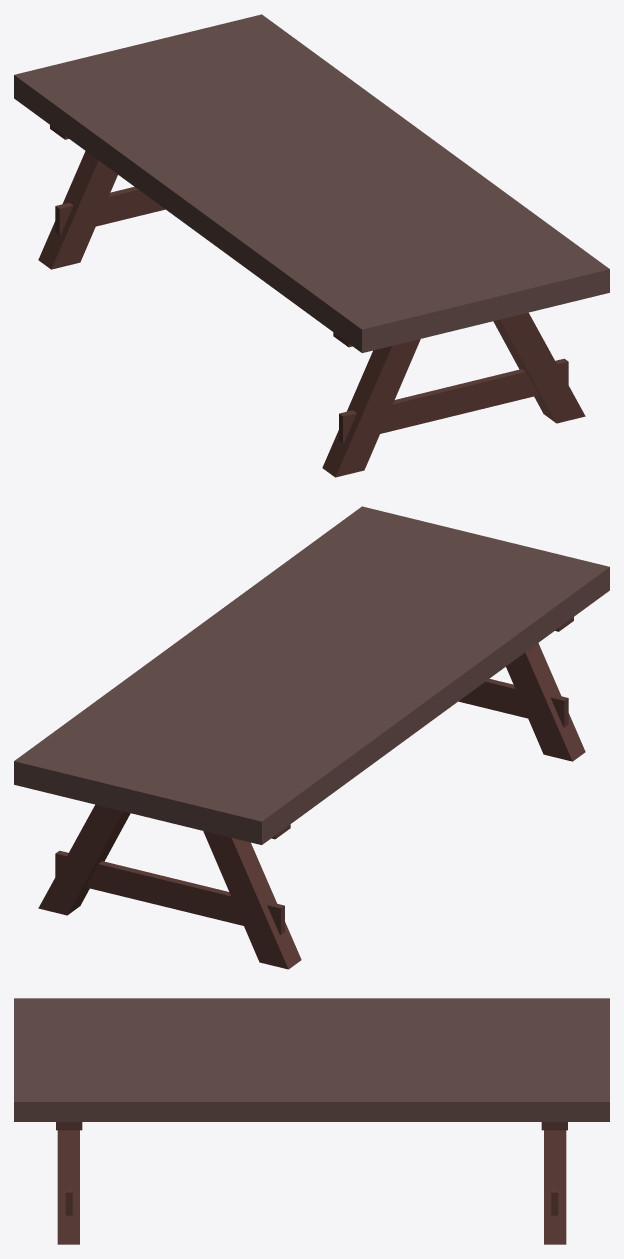
The model's file is broken_FlaskSquare.fbx_floor3.fbx_table_2.fbx.
3 renders of one model, top to bottom at view 1: azimuth 30°, elevation 25°; view 2: azimuth 150°, elevation 25°; view 3: azimuth 270°, elevation 25°, orthographic. The views are drawn at different scales.
Visible parts, largest first — view 1: Cube.010; view 2: Cube.010; view 3: Cube.010.
Part boxes in pixels (x1,y1,x2,y2): Cube.010: (14,14,609,477); Cube.010: (14,506,609,969); Cube.010: (14,998,609,1244).
Size of the model in its own units: 108 by 68.83 by 261.
